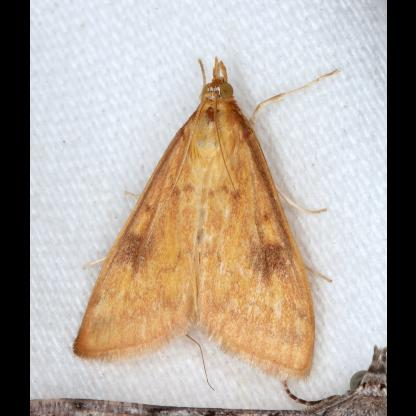Asian Corn Borer Moth: (69, 53, 342, 394), (29, 340, 387, 416)
